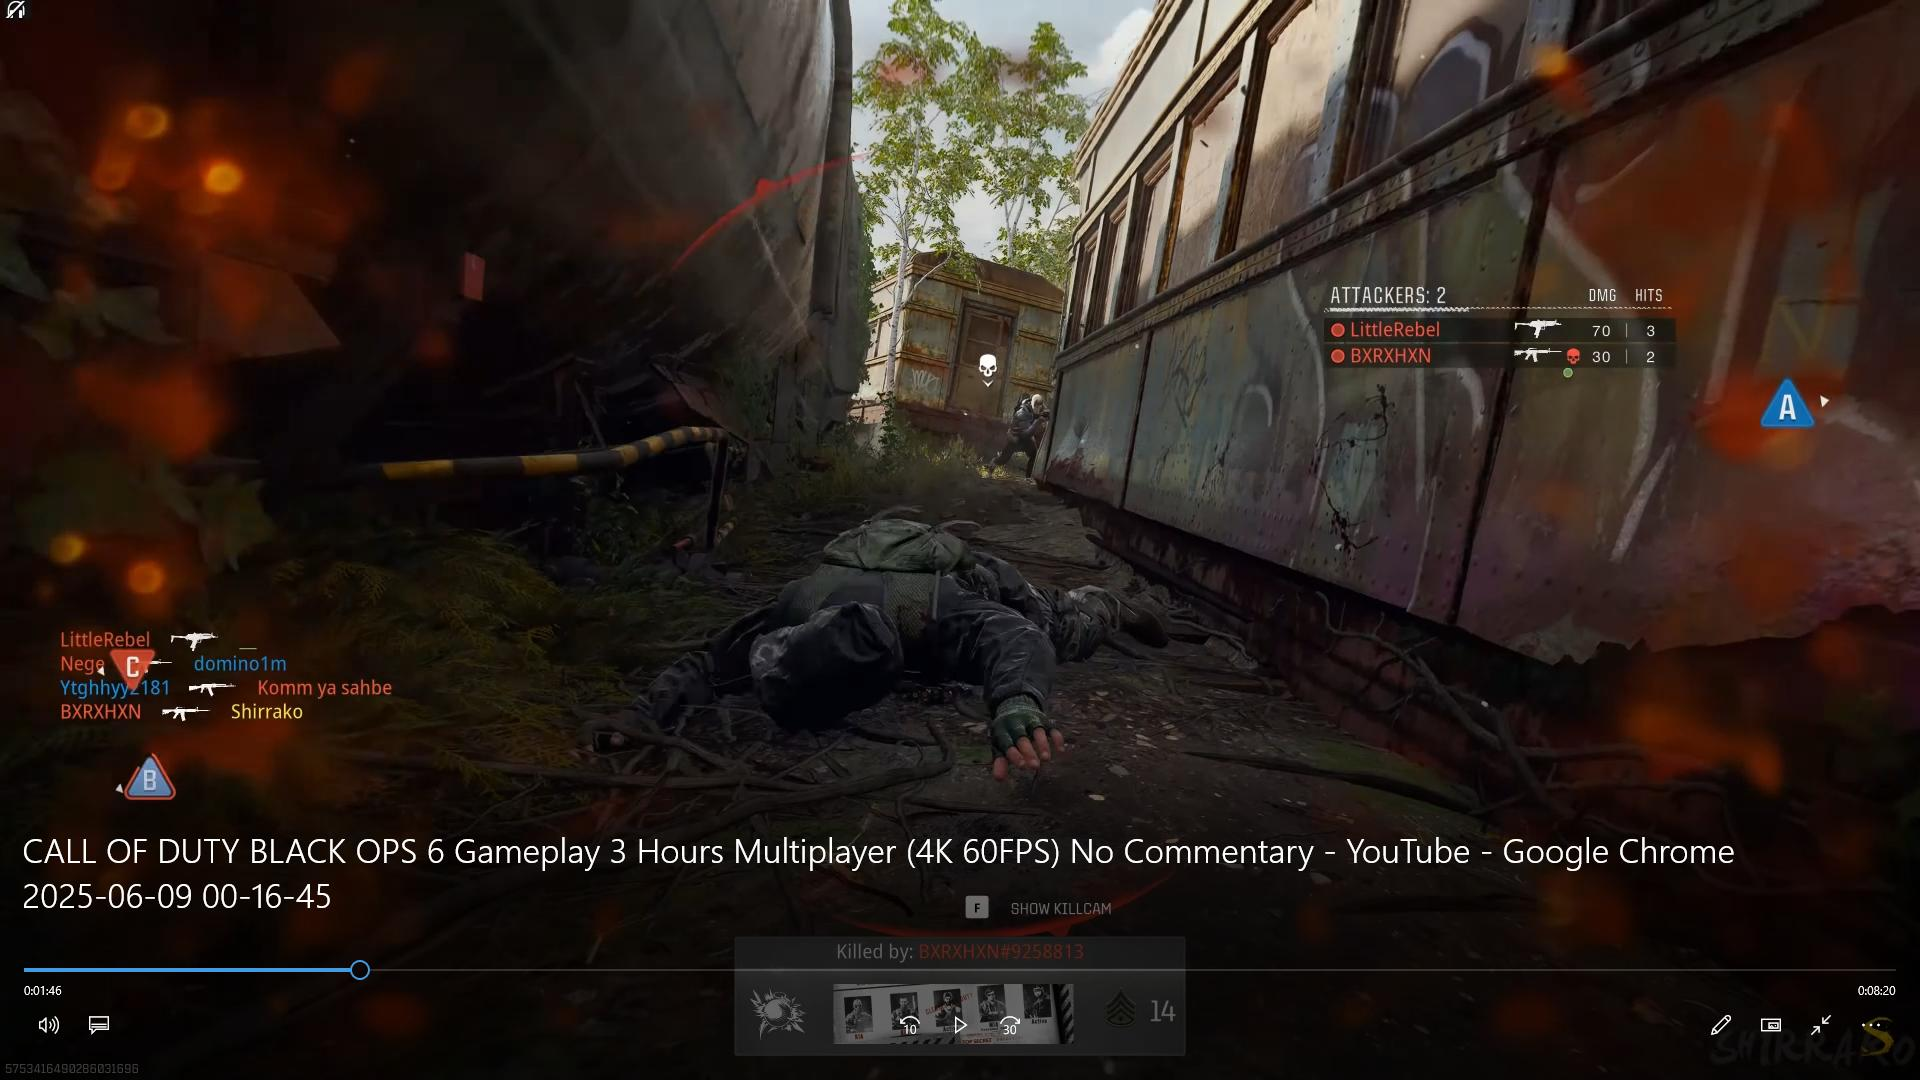Enemy: (993, 378, 1047, 473)
